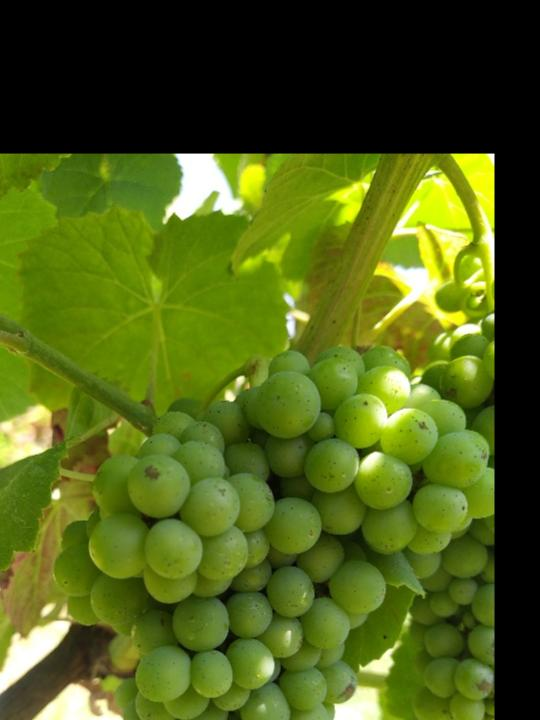grape: (52, 342, 489, 720)
